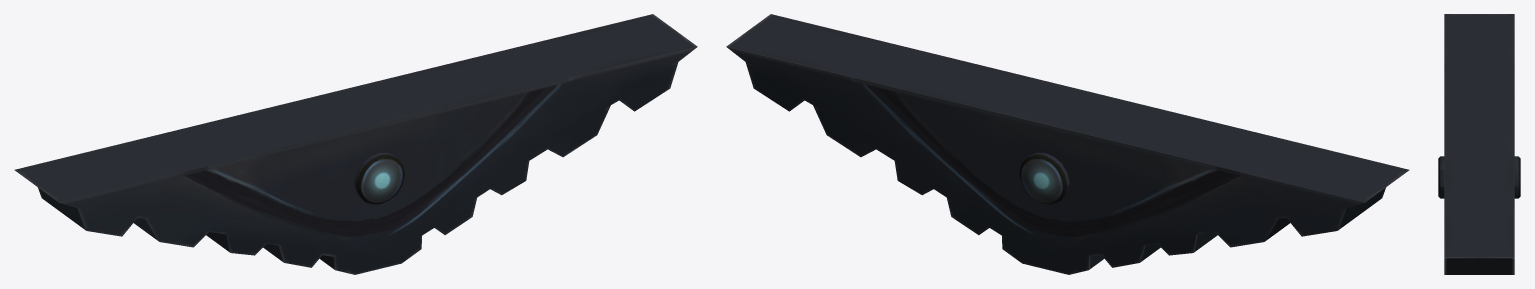
File: Platform001_Default.FBX
3 views of the same model, side by side, from view 1: azimuth 30°, elevation 25°; view 2: azimuth 150°, elevation 25°; view 3: azimuth 270°, elevation 25° (orthographic). The views are drawn at different scales.
Visible parts, largest first — view 1: Platform001_Default; view 2: Platform001_Default; view 3: Platform001_Default.
Boxes of the visible parts, box(x1,y1,x2,y2) form: Platform001_Default: box(14, 14, 697, 274); Platform001_Default: box(726, 14, 1409, 274); Platform001_Default: box(1438, 14, 1520, 274).
Bounding box in the file's own units: 74.11 × 16.02 × 10.58.
